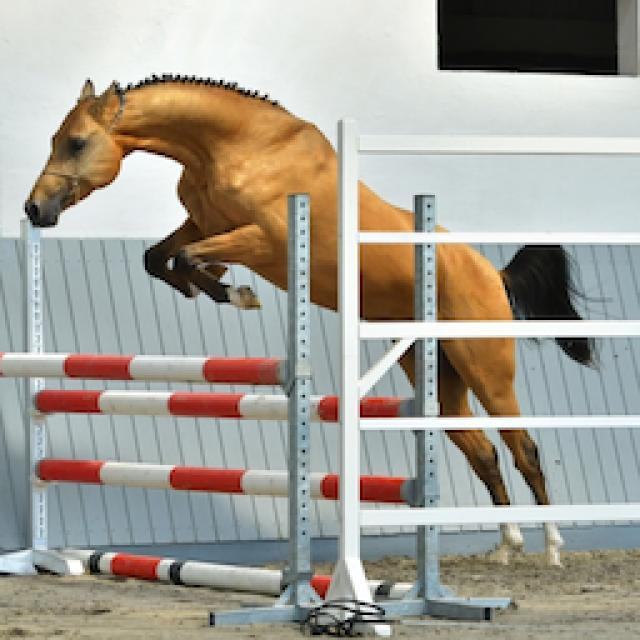Horse: (20, 65, 610, 573)
